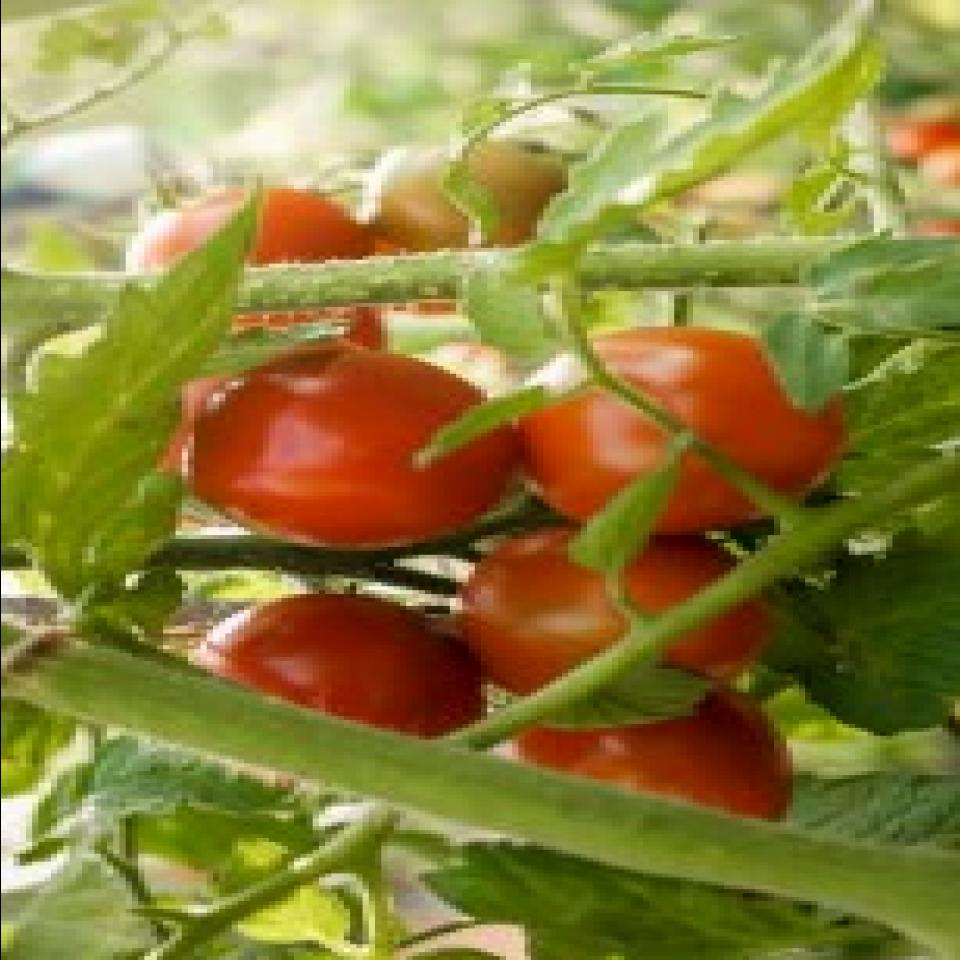Healthy: (508, 328, 852, 532), (198, 350, 512, 560), (475, 532, 769, 732), (511, 686, 793, 865), (100, 168, 350, 340), (210, 590, 472, 752)
